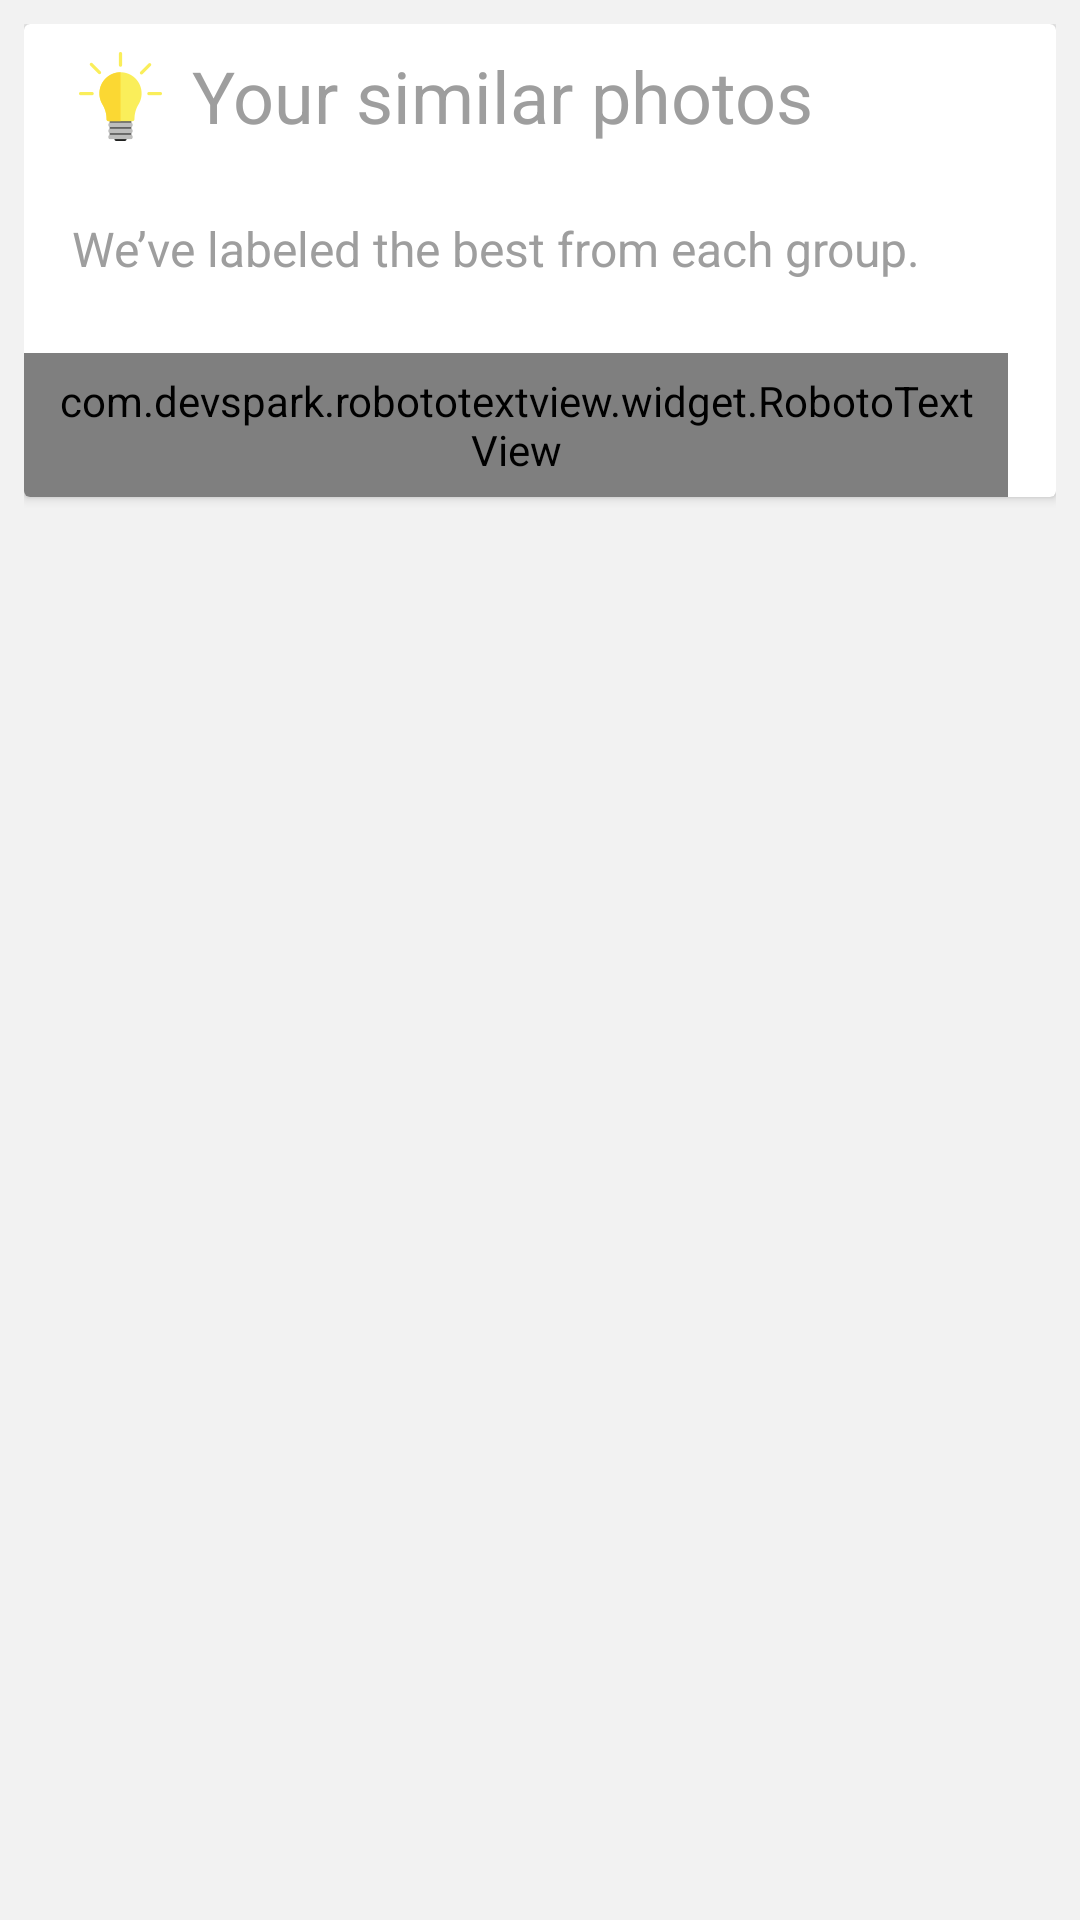

Where to tap for icons on this 1080x1920 app screen, as [x,y]:
hint lightbulb: [120,96]
